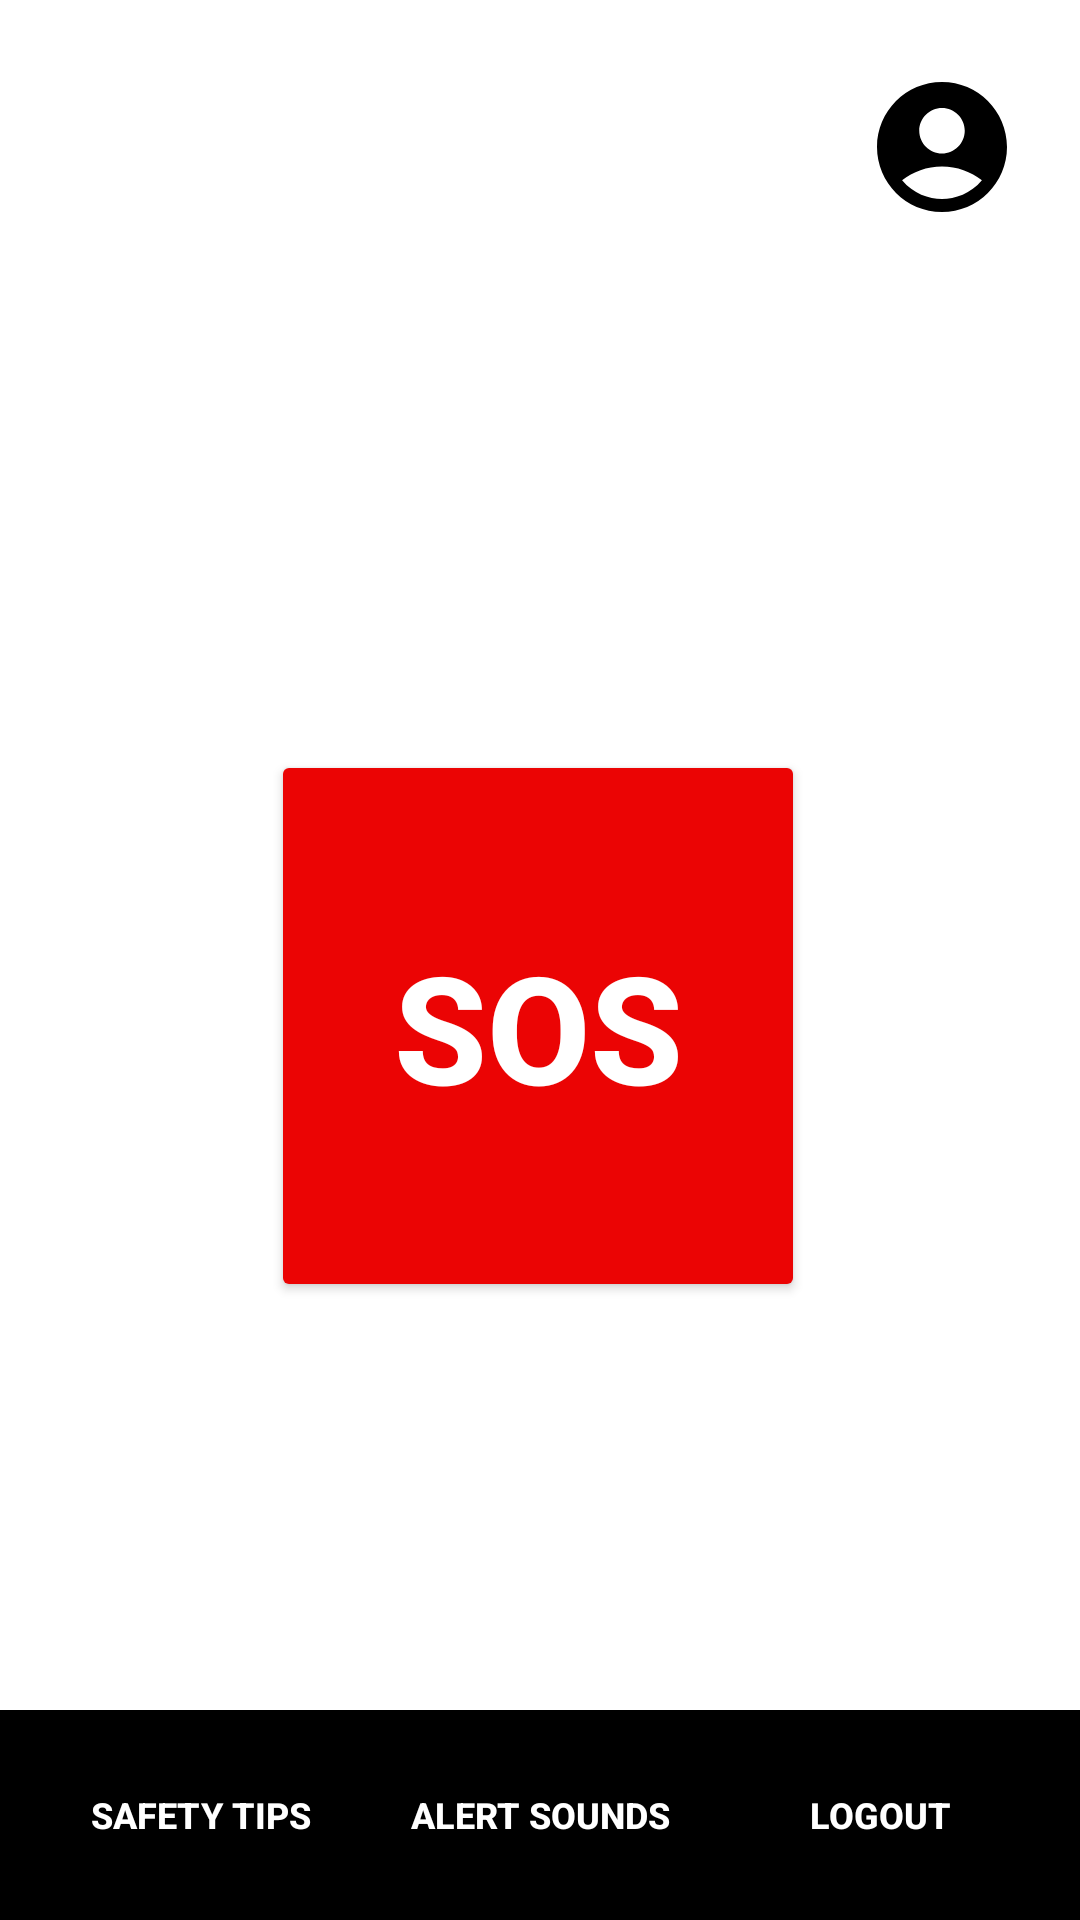

Screen size 1080x1920. Icon name, then its box in pixels as (x1, y1, x2, y2):
Profile: (877, 82, 1007, 212)
